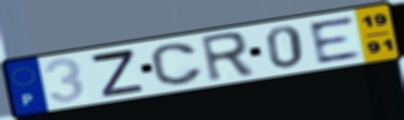0: (264, 25, 305, 71)
3: (43, 55, 89, 106)
C: (148, 41, 206, 88)
E: (305, 14, 365, 66)
R: (197, 29, 258, 85)
Z: (87, 48, 147, 99)
